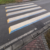zebra: (6, 3, 50, 33)
